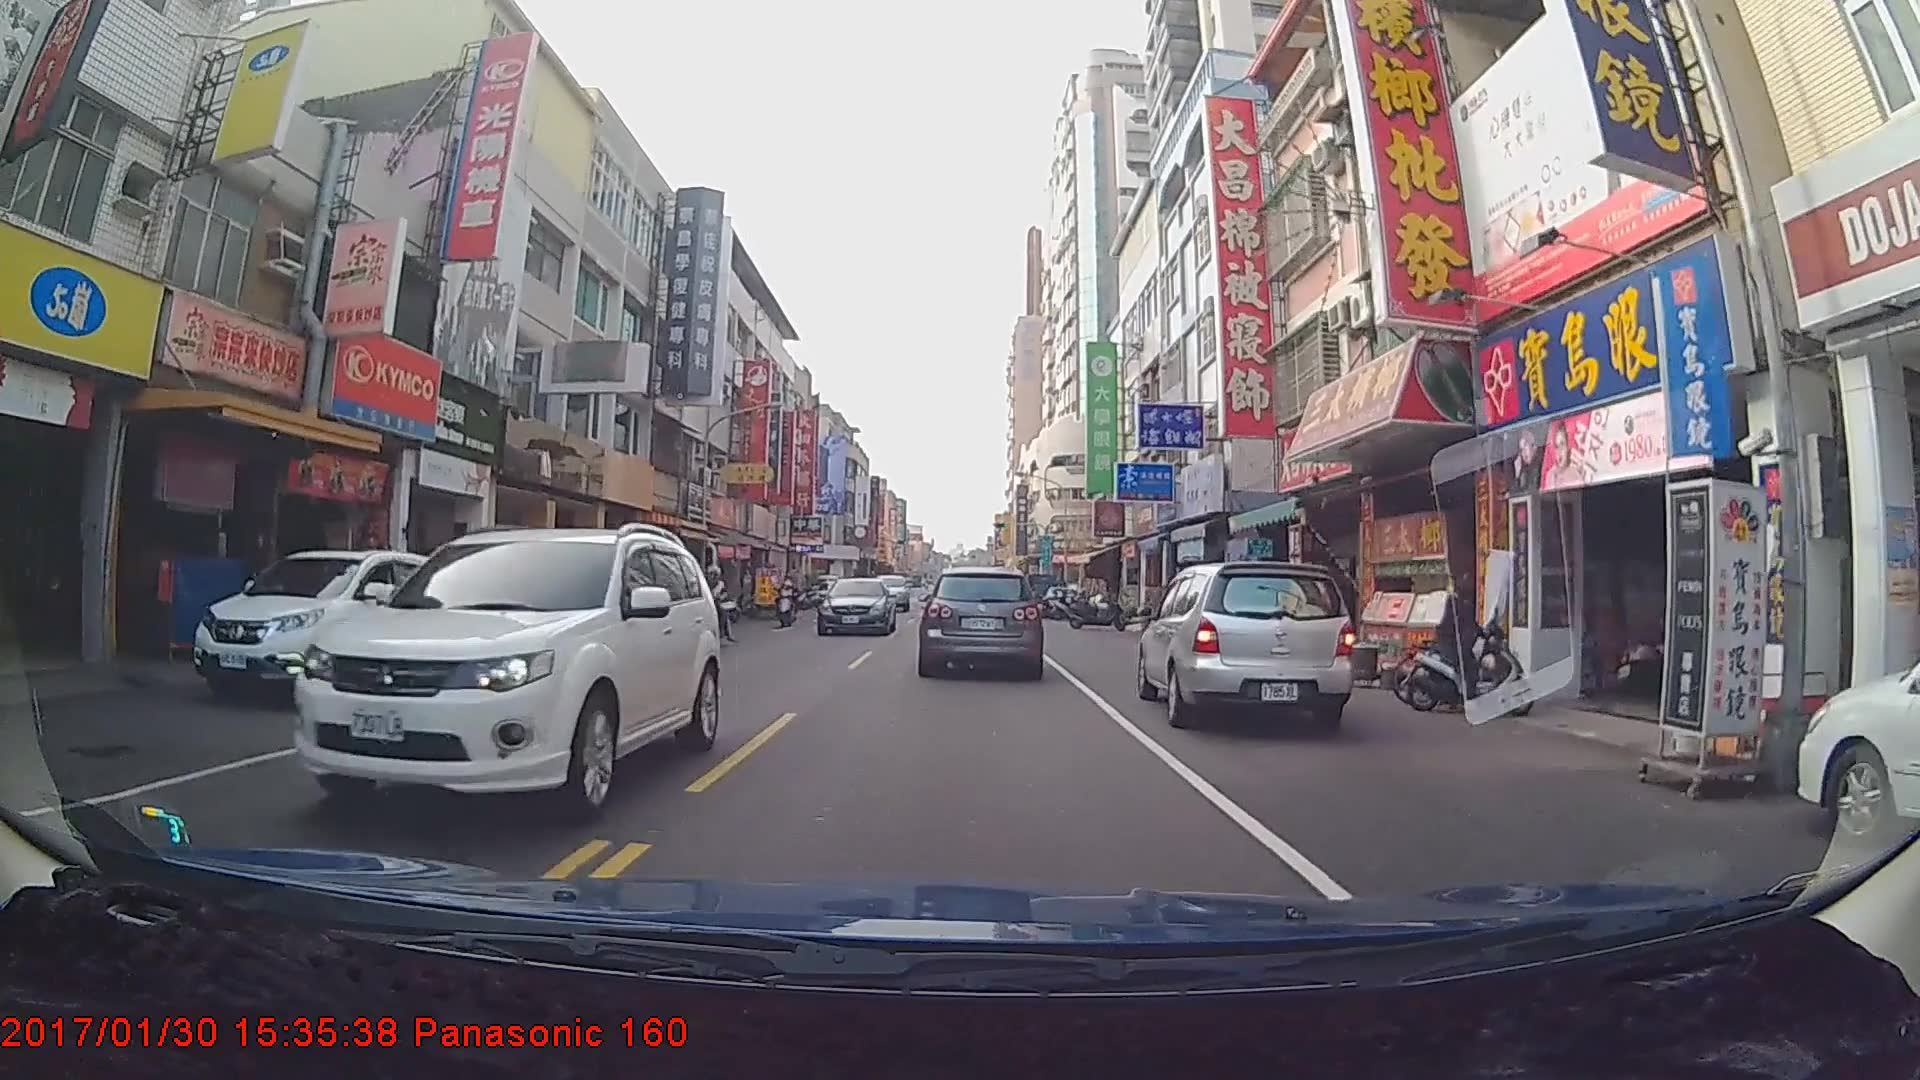rider: (1404, 574, 1546, 729), (769, 573, 800, 626)
vehicle: (288, 519, 722, 829), (1794, 570, 1920, 896), (189, 548, 440, 705), (1135, 561, 1354, 735), (919, 566, 1042, 676), (814, 575, 895, 636), (865, 573, 909, 612)
